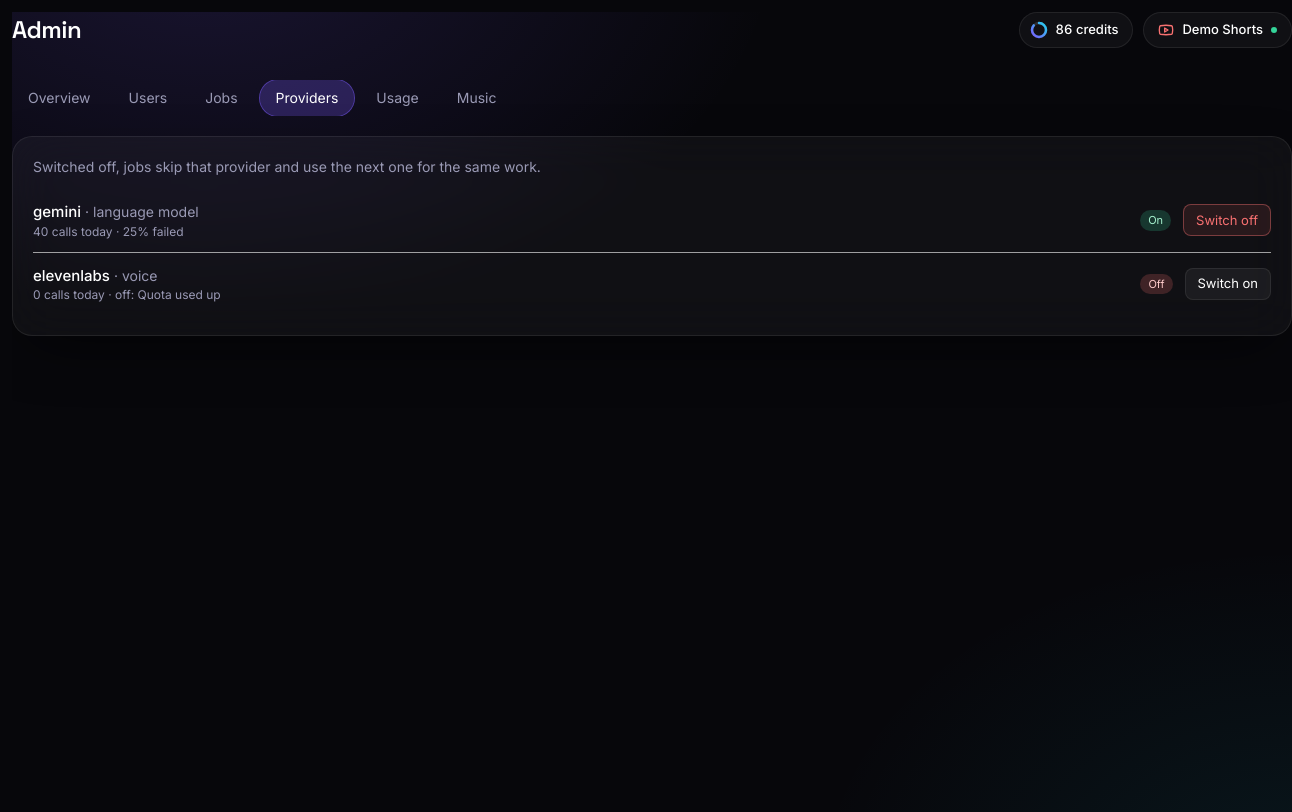
Test: admin: access and tabs › choosing a tab puts it in the address, and ?tab= opens one directly
The width and height of the screenshot is (1292, 812).
Expected: the text "gemini · language model" is shown, [33,202,199,221]
Expected: the tab "Providers" is shown, [260,80,354,116]
Click the tab "Usage" at (398, 98), box [360,80,435,116]
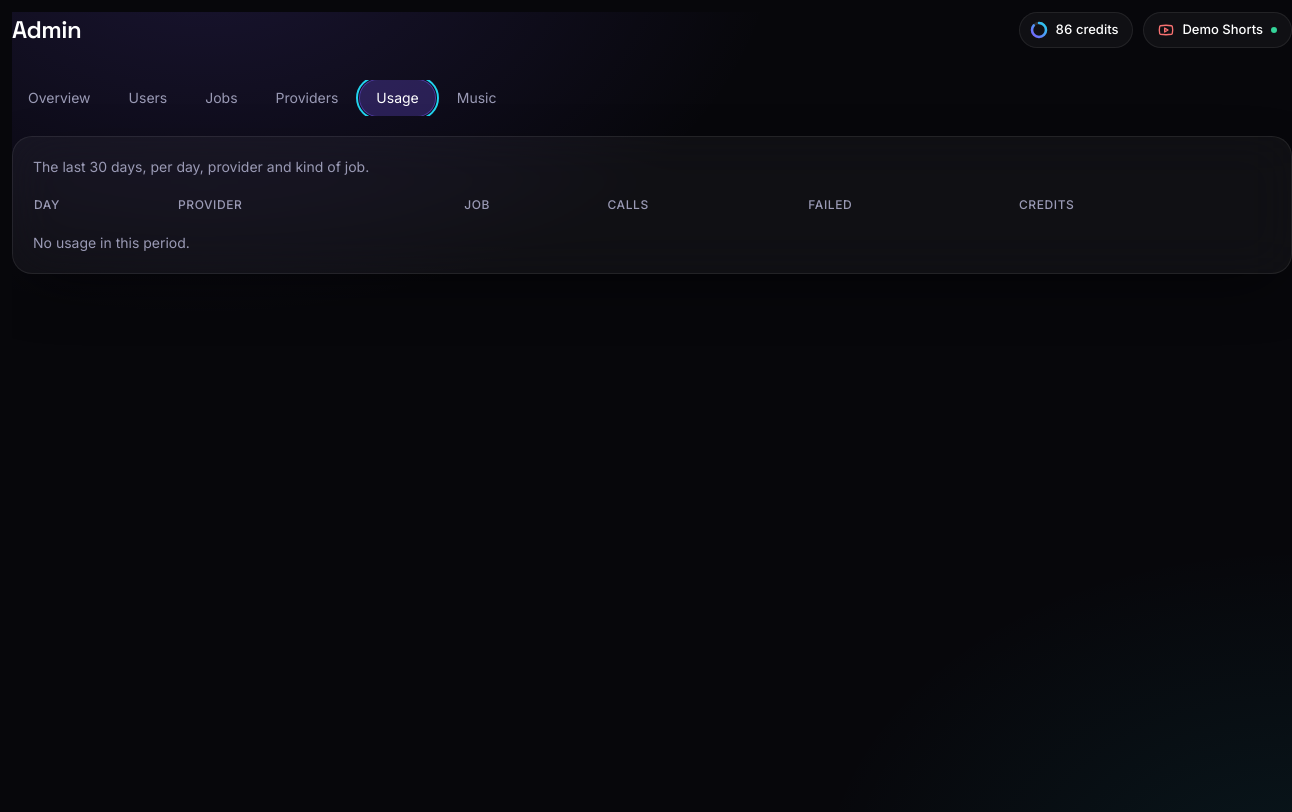
Result: the text "No usage in this period." is shown at [33,234,190,251]
